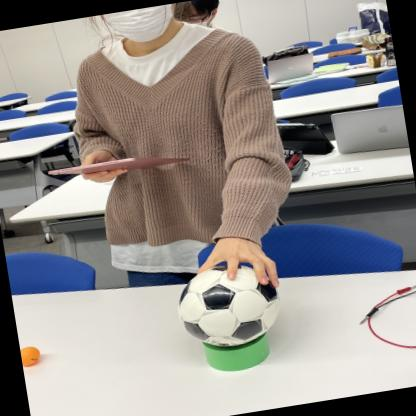ball: (172, 256, 284, 352)
